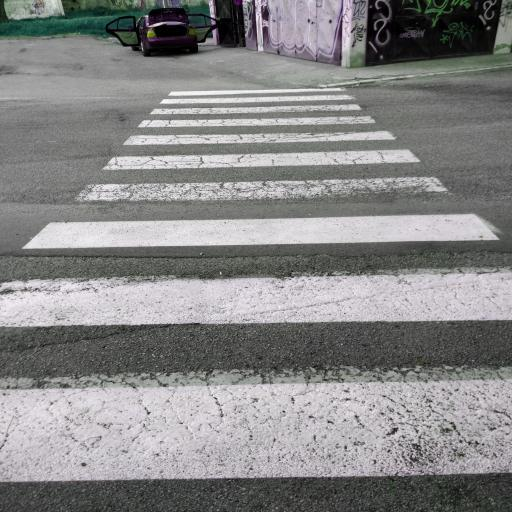crosswalk: (0, 258, 512, 496), (61, 147, 459, 210), (132, 101, 388, 131)
